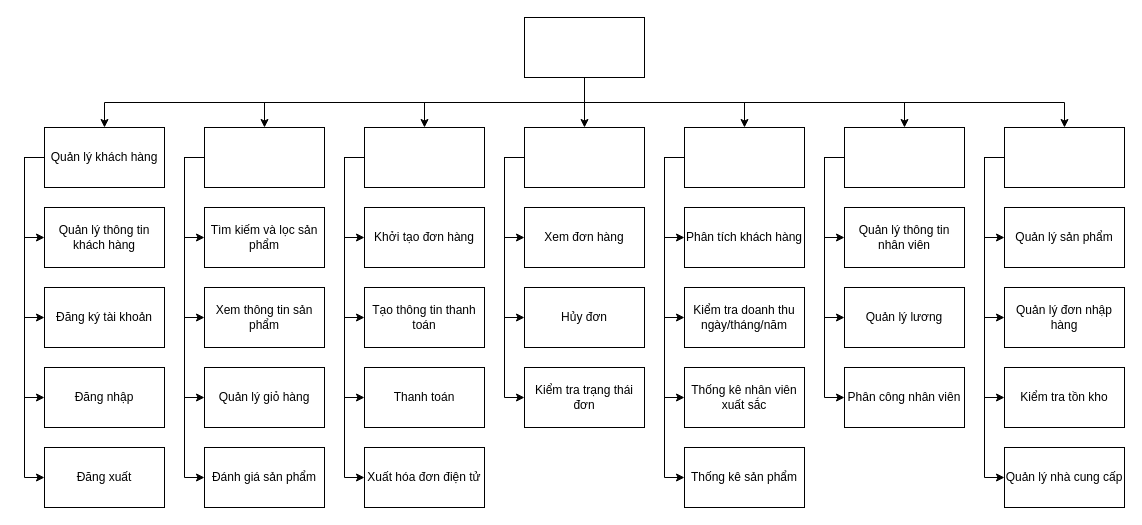
Image size: 1142x525. Some labels were removed from this diagram. Each missing label, with the centre of its shape:
"Báo cáo và thống kê" goes at [744,157].
"Quản lý bán hàng" goes at [264,157].
"Quản lý của hàng" goes at [584,47].
"Quản lý kho" goes at [1064,157].
"Quản lý nhân viên" goes at [904,157].
"Quản lý thanh toán" goes at [424,157].
"Quản lý đơn hàng" goes at [584,157].
